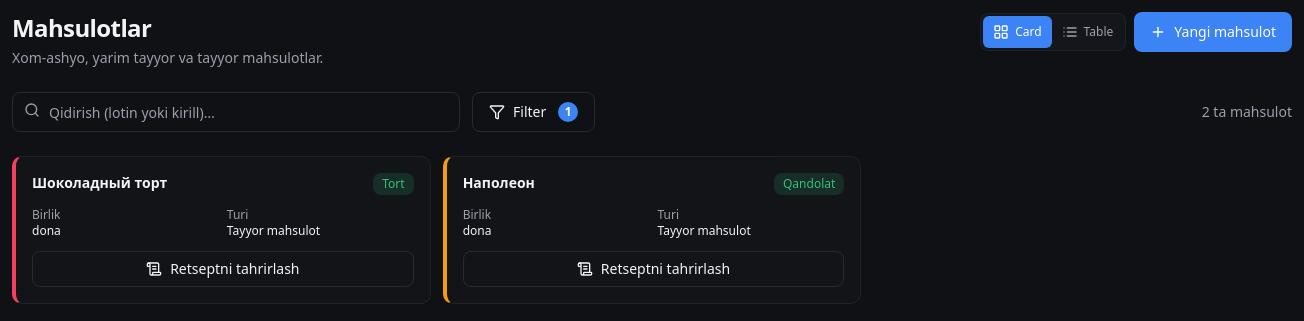
Test: ProductsPage — EPIC 1 › finds a Cyrillic product name via a Latin query (EPIC 1.2)
This screenshot has width=1304, height=321.
Expected: the text "Шоколадный торт" is shown, 32,173 -> 167,193
In the field named "Mahsulot qidirish": coordinates (236, 112) 12,92 -> 460,132, type "shokolad"
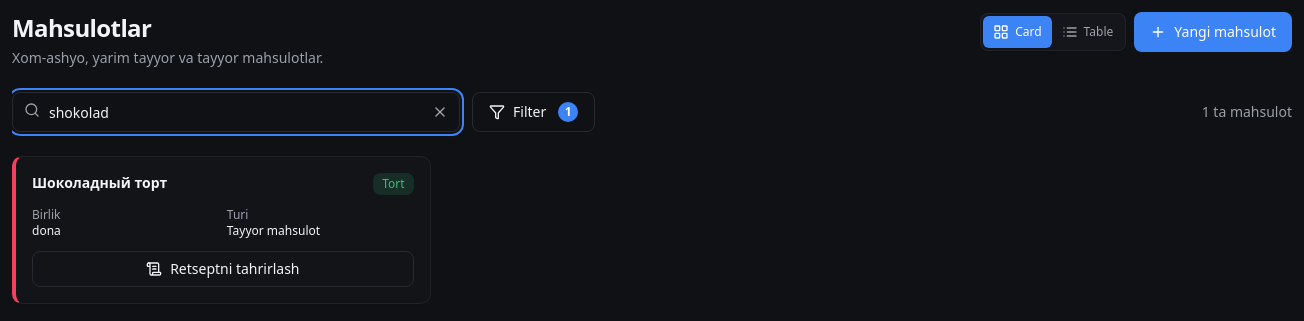
Expected: the text "Шоколадный торт" is shown, 32,173 -> 167,193
Now the text "Наполеон" is gone
